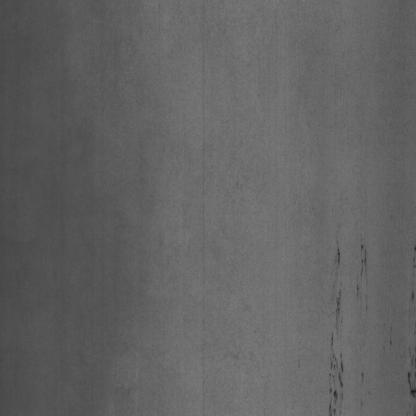inclusion: (321, 253, 350, 416), (406, 257, 416, 416), (353, 245, 371, 317)
